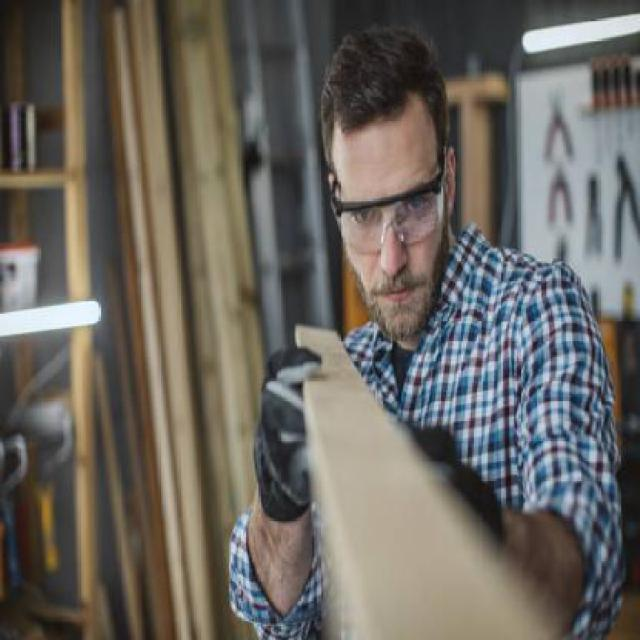glass: (322, 169, 458, 255)
head: (312, 15, 471, 351)
person: (232, 23, 627, 624)
